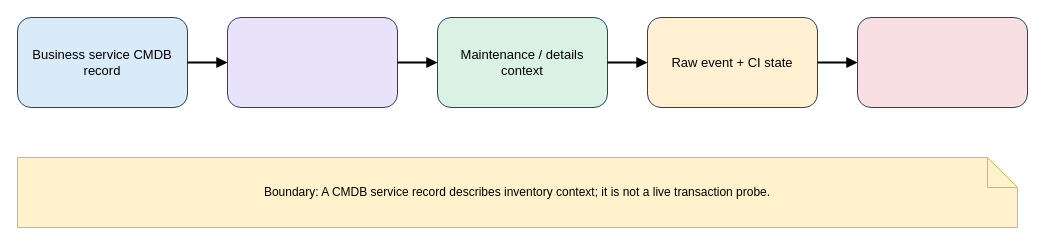
Some shapes in this 1045 by 245 pixel diagram are drawn without their labels. The shapes that lost their labels are listed below. From the top down, each one's centre as x and y in pixels, then its label:
point 312,62: Running-on CI and access IP
point 942,62: Analyst impact assessment
